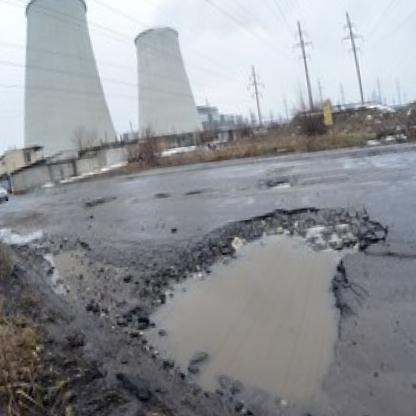pothole: (140, 202, 399, 401), (266, 177, 292, 191)
